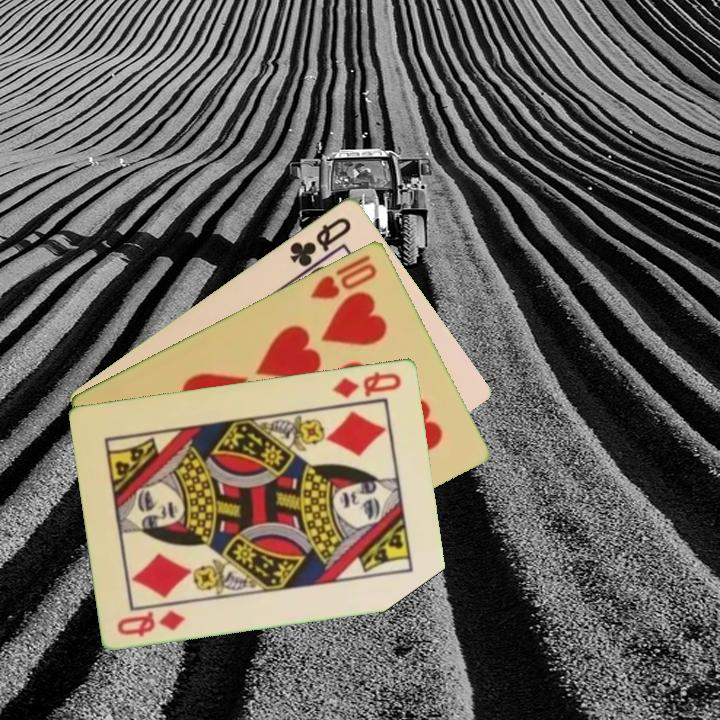10h: (306, 259, 381, 302)
Qc: (286, 213, 355, 269)
Qd: (329, 367, 405, 401), (114, 606, 188, 639)
